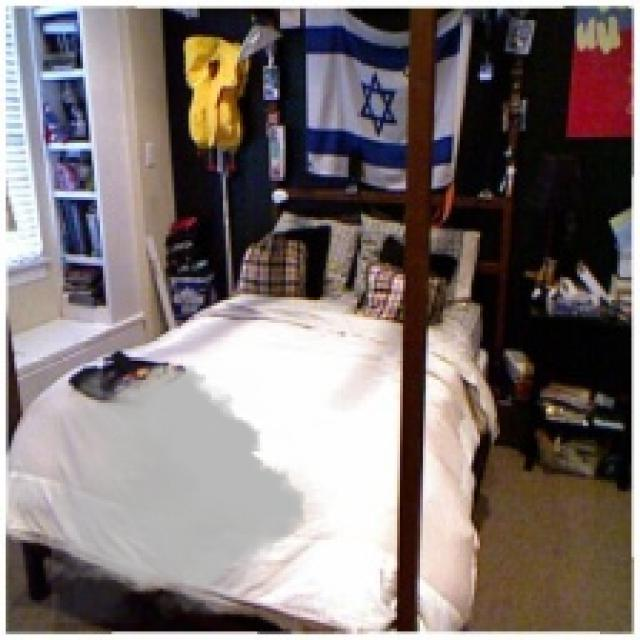smoke: (51, 360, 306, 623)
